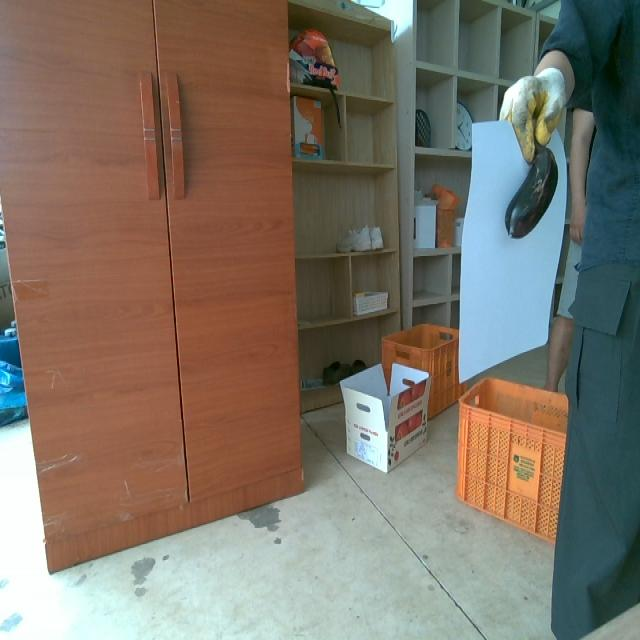Egg plant: (505, 144, 557, 237)
